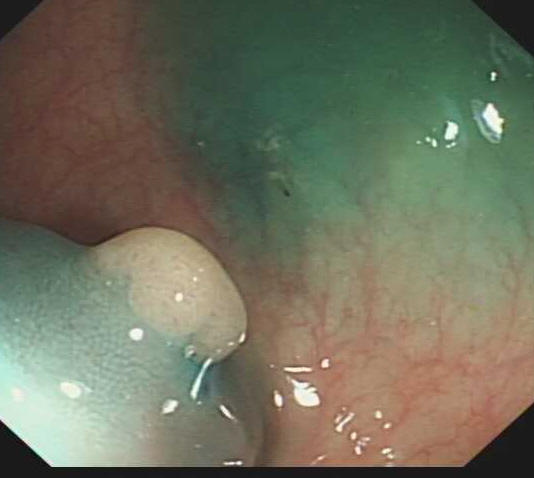adenoma: (87, 221, 249, 375)
